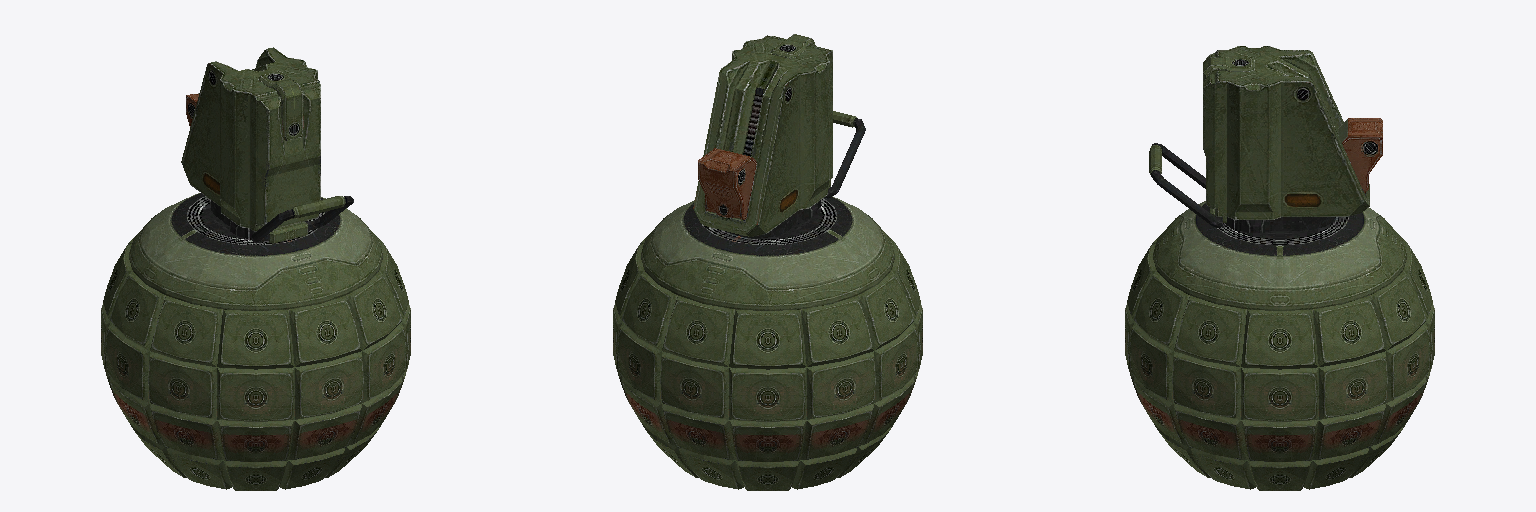
3 views of the same model, side by side, from view 1: azimuth 30°, elevation 25°; view 2: azimuth 150°, elevation 25°; view 3: azimuth 270°, elevation 25° (orthographic).
Visible parts, largest first — view 1: -default; view 2: -default; view 3: -default.
Boxes of the visible parts, <box> form: -default: <box>101,47,410,490</box>; -default: <box>613,34,922,490</box>; -default: <box>1125,46,1434,490</box>.
Size of the model in its own units: 0.1562 by 0.2168 by 0.1562.
Materials: 1 (1 with a texture image).